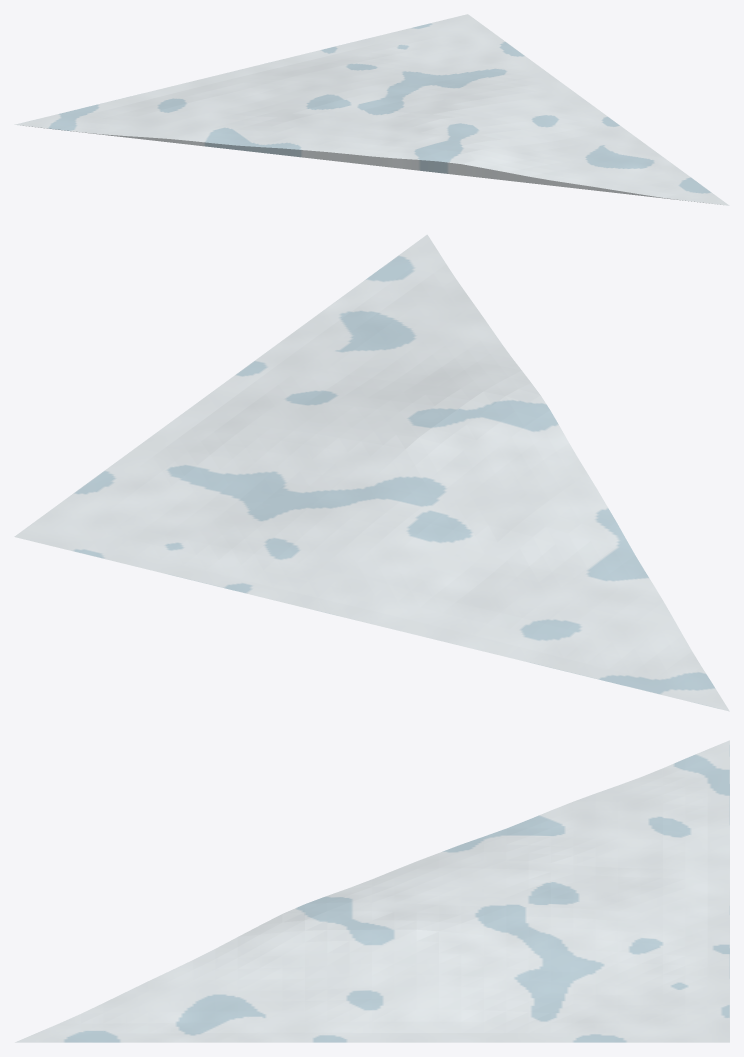
File: Snow_Flat_03_SE.obj
3 views of the same model, one above another, from view 1: azimuth 30°, elevation 25°; view 2: azimuth 150°, elevation 25°; view 3: azimuth 270°, elevation 25° (orthographic). The views are drawn at different scales.
Size of the model in its own units: 10 by 0.286 by 10.
Materials: 1 (1 with a texture image).
